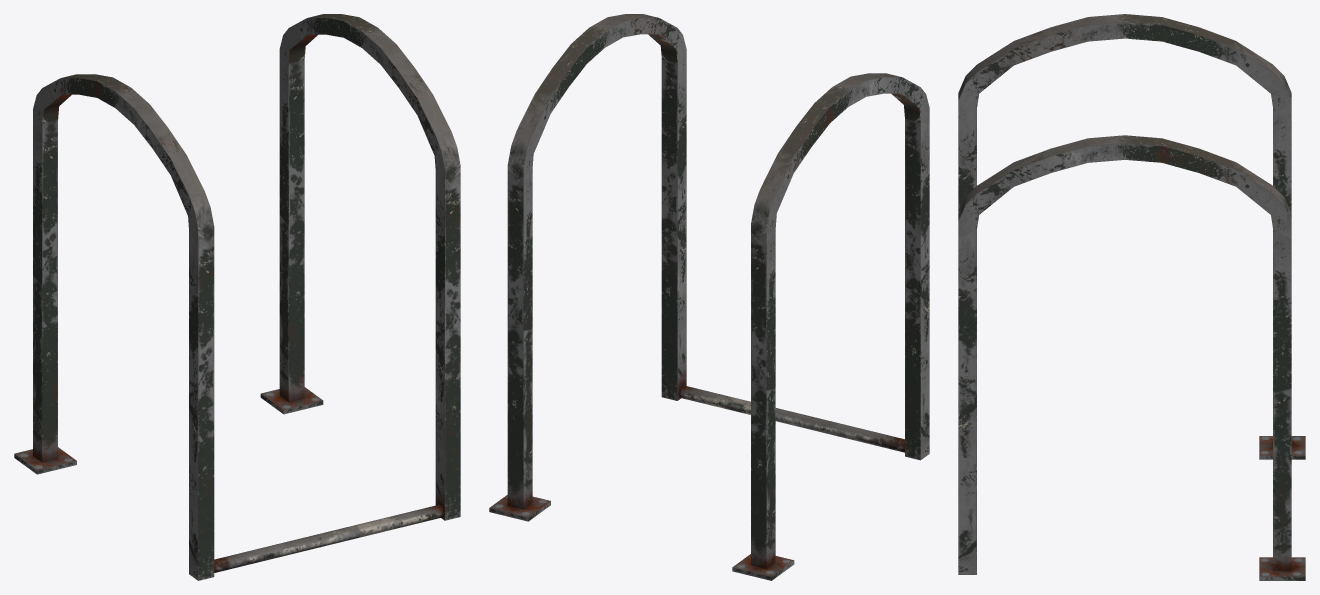
The model's file is SM_Ladder_Top.FBX.
3 renders of one model, left to right at view 1: azimuth 30°, elevation 25°; view 2: azimuth 150°, elevation 25°; view 3: azimuth 270°, elevation 25°, orthographic. The views are drawn at different scales.
Parts seen in each view (by area): view 1: SM_Ladder_Top_LOD0; view 2: SM_Ladder_Top_LOD0; view 3: SM_Ladder_Top_LOD0.
Boxes of the visible parts, x1,y1,x2,y2 form: SM_Ladder_Top_LOD0: [14, 14, 460, 580]; SM_Ladder_Top_LOD0: [489, 14, 929, 580]; SM_Ladder_Top_LOD0: [958, 14, 1305, 580].
Bounding box in the file's own units: 72 × 75 × 103.
